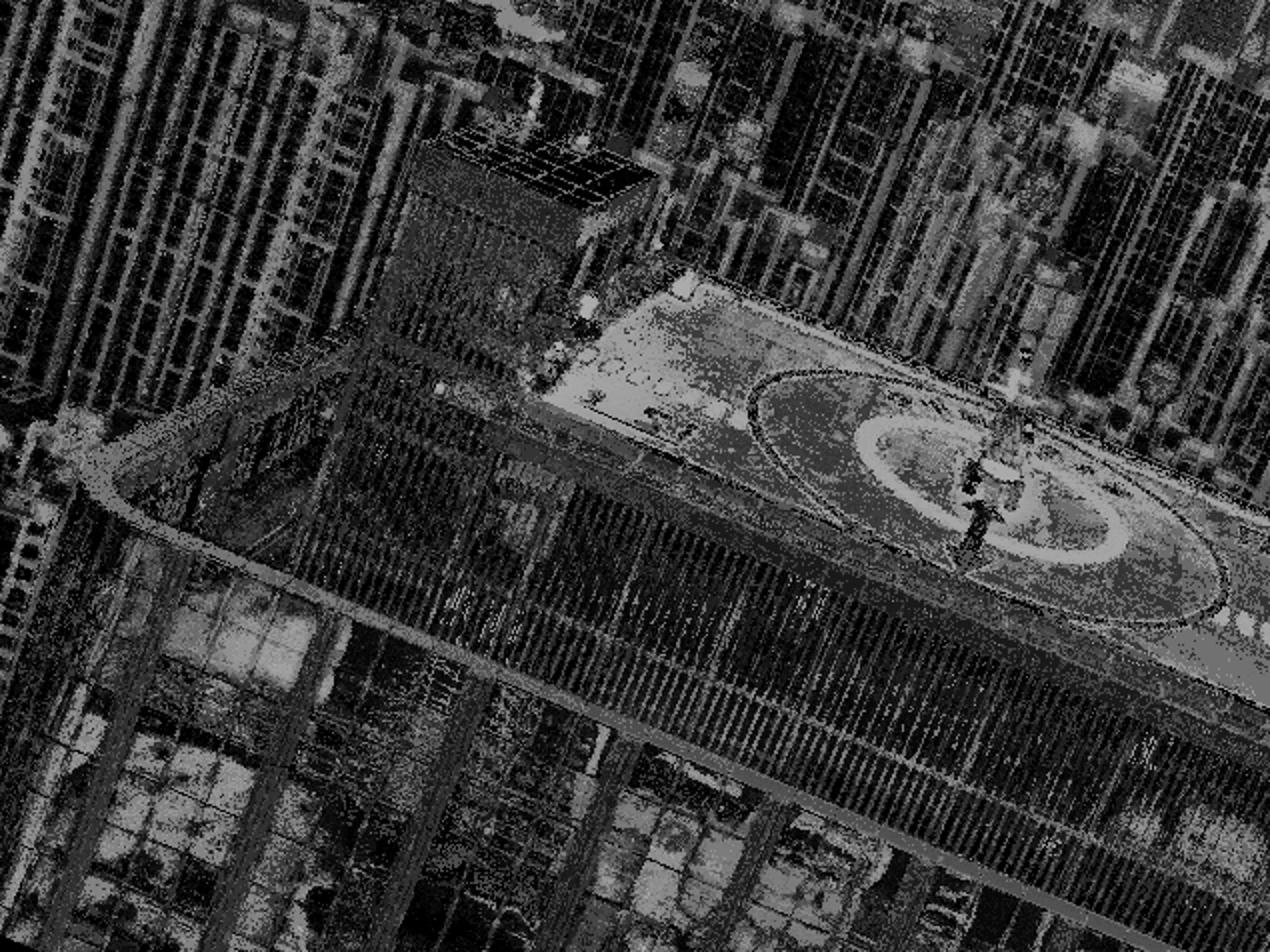Apron: (854, 404, 1137, 572)
